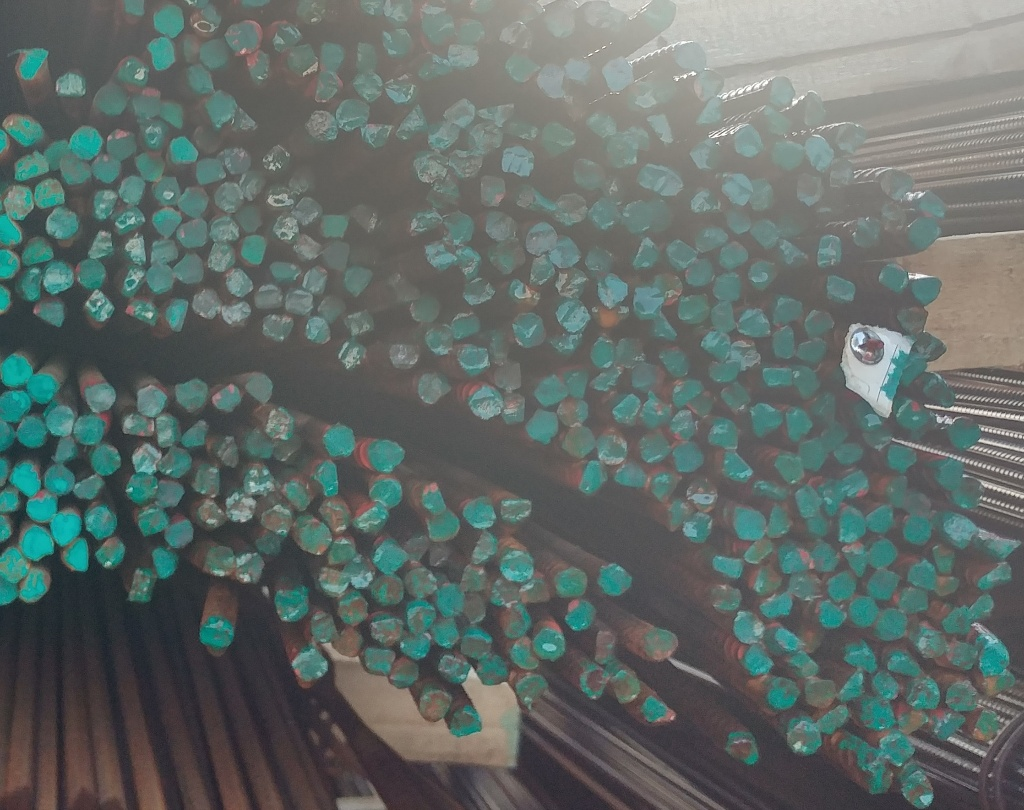dipstick: (861, 749, 895, 795), (391, 105, 428, 145), (296, 514, 331, 556), (487, 241, 526, 277), (638, 165, 683, 196), (281, 43, 320, 78), (369, 439, 409, 473), (120, 401, 156, 438), (317, 499, 356, 533), (905, 217, 944, 251), (199, 615, 236, 650), (879, 731, 914, 768), (226, 20, 261, 56), (175, 378, 209, 415), (499, 146, 537, 179), (643, 629, 679, 663), (424, 177, 461, 210), (466, 386, 503, 419), (365, 476, 403, 508), (276, 586, 307, 625), (752, 402, 783, 441), (904, 769, 934, 809), (462, 496, 497, 530), (543, 3, 579, 36), (504, 53, 540, 86), (482, 209, 518, 242), (43, 260, 75, 297), (424, 509, 461, 541), (578, 665, 610, 702), (788, 720, 820, 757), (3, 114, 42, 144), (192, 285, 222, 324), (978, 533, 1021, 560), (22, 527, 56, 561), (534, 376, 568, 410), (724, 731, 758, 765), (943, 513, 977, 547), (18, 48, 51, 83), (69, 126, 104, 159), (456, 343, 491, 376), (732, 505, 765, 540), (949, 415, 982, 450), (553, 193, 589, 225), (837, 543, 869, 579), (302, 110, 339, 141), (420, 241, 457, 272), (743, 562, 780, 593), (5, 186, 38, 220), (18, 570, 51, 604), (514, 312, 547, 346), (418, 371, 451, 405), (372, 574, 405, 608), (866, 566, 900, 599), (413, 151, 448, 183), (782, 405, 814, 440), (424, 6, 455, 42), (485, 330, 516, 366), (415, 691, 451, 722), (466, 123, 503, 153), (353, 504, 390, 534), (84, 505, 117, 538), (924, 375, 957, 408), (325, 424, 357, 458), (599, 563, 633, 595), (526, 407, 557, 442), (501, 602, 532, 637), (745, 175, 776, 210), (878, 169, 913, 200), (721, 451, 756, 482), (444, 211, 474, 247), (878, 262, 908, 298), (907, 680, 943, 710), (735, 310, 772, 339), (498, 497, 536, 525), (151, 546, 183, 579), (50, 513, 83, 545), (43, 464, 75, 497), (336, 99, 368, 132), (422, 323, 455, 355), (436, 654, 469, 686), (596, 275, 629, 307), (844, 595, 877, 627), (933, 711, 966, 743), (352, 72, 386, 103), (509, 278, 543, 309), (416, 481, 447, 515), (375, 539, 406, 573), (657, 348, 691, 379), (788, 365, 822, 396), (637, 429, 671, 460), (705, 419, 739, 450), (146, 36, 176, 71), (139, 118, 169, 153), (44, 208, 79, 238), (447, 707, 482, 737), (722, 173, 752, 208), (726, 340, 761, 370), (441, 98, 477, 127), (555, 300, 591, 329), (403, 567, 439, 596), (839, 504, 865, 544), (1, 356, 33, 388), (189, 4, 222, 35), (572, 158, 603, 191), (533, 628, 564, 661), (514, 675, 547, 706), (461, 626, 492, 659), (856, 396, 889, 427), (863, 697, 896, 728), (75, 259, 109, 289), (500, 550, 534, 580), (946, 638, 976, 672), (951, 478, 985, 508), (914, 332, 948, 362), (293, 652, 328, 681), (517, 183, 552, 212), (556, 397, 591, 426), (611, 669, 640, 704), (548, 327, 584, 355), (790, 571, 826, 599), (173, 253, 205, 284), (193, 464, 224, 496), (196, 497, 227, 529), (501, 18, 533, 49), (525, 223, 556, 255), (342, 556, 373, 588), (405, 603, 437, 634), (732, 125, 763, 157), (91, 445, 124, 475), (160, 445, 190, 478), (235, 552, 265, 585), (164, 515, 194, 548), (673, 41, 706, 71), (689, 139, 722, 169), (652, 274, 682, 307), (597, 432, 630, 462), (671, 443, 704, 473), (894, 398, 927, 428), (766, 679, 799, 709), (13, 267, 42, 301), (226, 489, 255, 523), (450, 150, 484, 179), (552, 235, 581, 269), (776, 206, 810, 235), (814, 235, 843, 269), (698, 331, 732, 360), (469, 530, 497, 565), (803, 135, 831, 170), (767, 502, 795, 537), (460, 279, 496, 306), (649, 202, 676, 238), (540, 62, 566, 99), (365, 618, 402, 644), (119, 56, 150, 87), (155, 5, 186, 36), (151, 207, 182, 238), (1, 391, 32, 422), (94, 539, 125, 570), (564, 422, 595, 453), (607, 135, 638, 166), (207, 94, 239, 124), (244, 49, 268, 89), (435, 583, 465, 615), (563, 599, 593, 631), (817, 599, 847, 631), (135, 507, 168, 536), (477, 175, 506, 208), (842, 468, 871, 501), (21, 236, 55, 264), (127, 569, 155, 603), (386, 71, 414, 105), (623, 201, 651, 235), (675, 295, 709, 323), (717, 383, 751, 411), (266, 405, 293, 440), (318, 37, 345, 72), (416, 52, 451, 79), (426, 121, 461, 148), (313, 460, 340, 495), (17, 417, 47, 448), (382, 27, 412, 58), (317, 292, 347, 323), (493, 361, 524, 391), (511, 639, 542, 669), (477, 655, 508, 685), (632, 285, 662, 316), (683, 512, 713, 543), (732, 612, 763, 642), (200, 36, 229, 68), (85, 289, 114, 321), (124, 473, 156, 502), (10, 463, 39, 495), (268, 23, 300, 52), (338, 337, 367, 369), (773, 139, 805, 168), (760, 104, 792, 133), (820, 704, 852, 733), (33, 179, 66, 207), (261, 314, 294, 342), (247, 426, 275, 459), (25, 494, 58, 522), (359, 123, 392, 151), (664, 237, 697, 265), (825, 276, 858, 304), (670, 378, 703, 406), (663, 500, 691, 533), (640, 394, 667, 428), (841, 644, 875, 671), (838, 668, 865, 702), (975, 563, 1013, 587), (13, 154, 48, 180), (882, 474, 908, 509), (61, 154, 91, 184), (74, 471, 104, 501), (802, 91, 827, 127), (707, 358, 743, 383), (611, 463, 647, 488), (943, 605, 973, 635), (968, 594, 998, 624), (133, 87, 162, 118), (106, 127, 135, 158), (135, 151, 164, 182), (179, 185, 208, 216), (137, 383, 166, 414), (72, 415, 103, 444), (555, 566, 586, 595), (579, 462, 608, 493), (946, 682, 977, 711), (477, 103, 516, 126), (55, 70, 87, 98), (28, 374, 60, 402), (246, 373, 274, 405), (260, 507, 292, 535), (648, 113, 676, 145), (686, 482, 718, 510), (712, 553, 744, 581), (760, 592, 792, 620), (911, 276, 943, 304), (95, 84, 128, 111), (90, 154, 123, 181), (125, 299, 158, 326), (314, 71, 341, 104), (528, 254, 555, 287), (771, 297, 804, 324), (887, 652, 920, 679), (542, 122, 576, 148), (715, 243, 749, 269), (692, 223, 727, 248), (213, 181, 243, 210), (239, 234, 268, 264), (88, 229, 118, 258), (84, 383, 114, 412), (212, 384, 241, 414), (343, 265, 372, 295), (559, 268, 589, 297), (835, 123, 865, 152), (825, 157, 854, 187), (826, 571, 855, 601), (744, 646, 774, 675), (806, 678, 836, 707), (898, 704, 927, 734), (982, 643, 1011, 673), (933, 459, 962, 489), (188, 63, 216, 94), (122, 233, 150, 264), (32, 301, 63, 329), (271, 212, 299, 243), (317, 564, 348, 592), (363, 647, 394, 675), (768, 76, 796, 107), (868, 505, 896, 536), (44, 139, 71, 171), (154, 414, 181, 446), (208, 545, 235, 577), (447, 43, 479, 70), (684, 258, 716, 285), (220, 301, 253, 327), (64, 539, 90, 572), (745, 262, 778, 288), (645, 78, 679, 103), (206, 241, 235, 270), (391, 271, 420, 300), (457, 593, 486, 622), (583, 1, 612, 30), (774, 453, 803, 482), (917, 628, 946, 657), (170, 136, 200, 164), (151, 176, 181, 204), (178, 219, 208, 247), (327, 537, 357, 565), (707, 301, 735, 331), (649, 312, 679, 340), (809, 543, 837, 573), (120, 266, 147, 297), (226, 268, 253, 299), (1, 548, 28, 579), (451, 312, 482, 339), (633, 238, 660, 269), (610, 395, 641, 422), (886, 443, 917, 470), (645, 699, 676, 726), (268, 259, 300, 285), (352, 203, 378, 235), (409, 297, 441, 323), (501, 394, 527, 426), (693, 71, 725, 97), (775, 239, 807, 265), (590, 303, 622, 329), (649, 473, 681, 499), (592, 631, 618, 663), (895, 307, 927, 333), (487, 579, 520, 604), (780, 549, 813, 574), (982, 672, 1015, 697), (904, 513, 928, 547), (197, 157, 226, 185), (181, 420, 210, 448), (133, 443, 161, 472), (156, 479, 184, 508), (799, 440, 827, 469), (713, 585, 742, 613), (907, 560, 936, 588), (271, 434, 301, 461), (309, 613, 336, 643), (390, 659, 417, 689), (751, 218, 778, 248), (879, 609, 906, 639), (917, 190, 947, 217), (855, 217, 881, 248), (114, 207, 146, 232), (253, 285, 285, 310), (296, 195, 321, 227), (337, 598, 369, 623), (691, 190, 723, 215), (165, 296, 187, 332), (504, 120, 540, 142), (771, 327, 795, 360), (91, 190, 119, 218), (237, 204, 265, 232), (332, 629, 360, 657), (158, 99, 185, 128), (195, 124, 224, 151), (118, 176, 145, 205), (262, 146, 291, 173), (147, 263, 174, 292), (46, 406, 73, 435), (245, 465, 274, 492), (300, 265, 327, 294), (304, 317, 331, 346), (456, 248, 483, 277), (430, 623, 459, 650), (668, 410, 695, 439), (209, 216, 239, 242), (322, 241, 348, 271), (517, 578, 548, 603), (603, 59, 634, 84), (803, 311, 834, 336), (773, 627, 804, 652), (901, 355, 926, 386), (563, 368, 587, 400), (401, 633, 433, 657), (974, 709, 998, 741), (590, 201, 617, 229), (587, 247, 615, 274), (616, 339, 644, 366), (745, 536, 773, 563), (867, 540, 894, 568), (566, 55, 592, 84), (266, 183, 295, 209), (285, 289, 314, 315), (344, 309, 373, 335), (726, 211, 755, 237), (874, 671, 900, 700), (352, 42, 377, 72), (797, 173, 822, 203), (881, 204, 906, 234), (788, 651, 818, 676), (900, 587, 930, 612), (408, 213, 442, 235), (820, 477, 840, 514), (1, 215, 24, 247), (286, 480, 309, 512), (294, 235, 321, 262), (319, 215, 347, 241), (821, 423, 847, 451), (233, 107, 258, 136), (222, 146, 251, 171), (604, 178, 633, 203), (712, 274, 741, 299), (796, 338, 825, 363), (650, 2, 680, 26), (796, 485, 820, 515), (294, 1, 325, 24), (630, 365, 662, 387), (696, 98, 723, 124), (588, 111, 616, 136), (389, 345, 418, 369), (1, 249, 20, 285), (591, 367, 622, 389), (458, 18, 484, 44), (626, 125, 652, 151), (241, 171, 266, 198), (630, 84, 657, 109), (590, 339, 615, 366), (151, 239, 179, 263), (932, 545, 957, 571), (257, 532, 284, 556), (754, 481, 788, 500), (384, 1, 412, 24), (759, 368, 794, 386), (462, 567, 486, 593), (221, 436, 241, 467), (816, 393, 838, 421), (834, 442, 863, 463), (53, 437, 77, 462), (692, 394, 718, 417), (402, 534, 425, 559), (806, 509, 828, 535), (287, 172, 308, 198), (867, 429, 892, 450), (428, 545, 451, 567), (608, 4, 625, 33), (182, 36, 200, 63), (936, 575, 960, 595), (1, 488, 20, 512), (924, 599, 948, 618)
